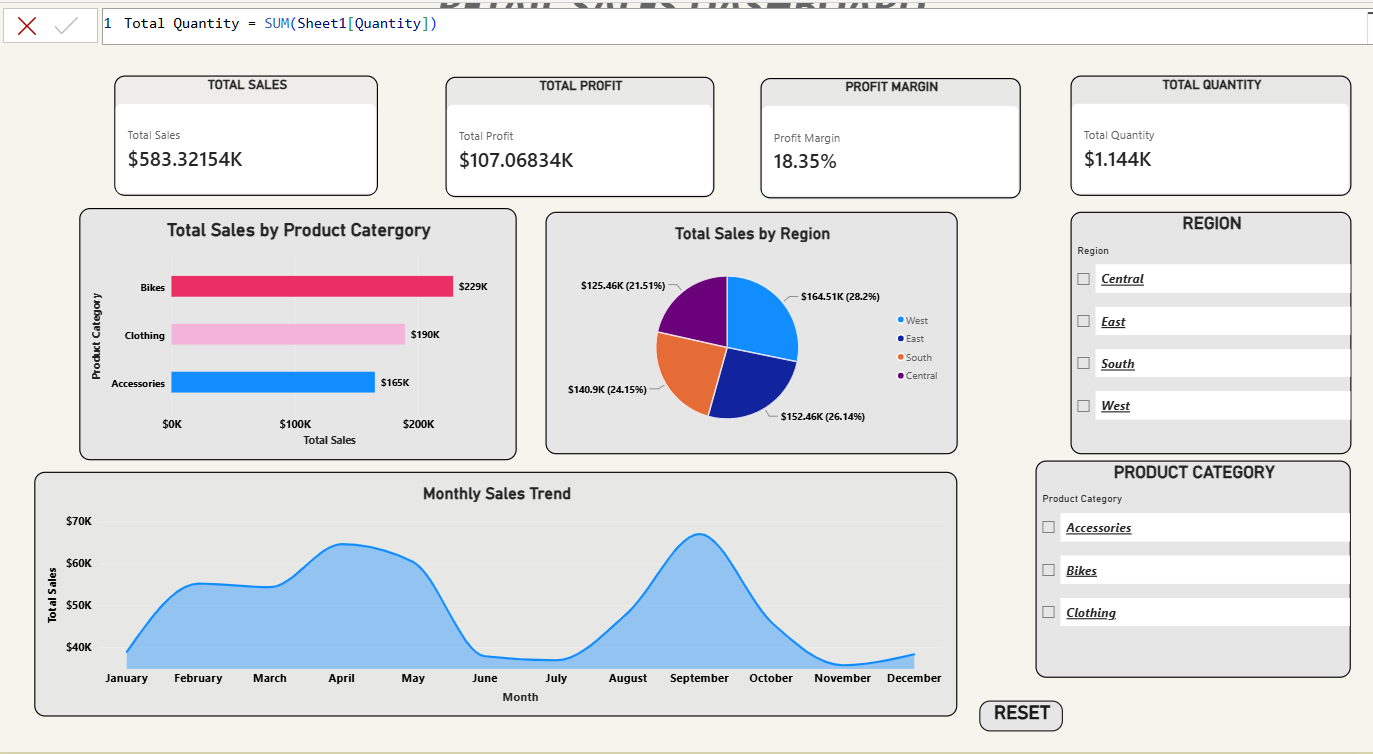

The page's visual inventory and layout, read from the dashboard file:
{"tool":"powerbi","page":{"name":"Page 1","canvas":[1920,1080],"ordinal":0},"visuals":[{"type":"textbox","box":[612.2,0,727.3,87.2],"z":0},{"type":"cardVisual","title":"TOTAL SALES","fields":{"Data":["Sheet1.Total Sales"]},"box":[161.7,136.7,368.3,168.3],"z":1},{"type":"cardVisual","title":"TOTAL PROFIT","fields":{"Data":["Sheet1.Total Profit"]},"box":[625,138.3,375,168.3],"z":2},{"type":"cardVisual","title":"PROFIT MARGIN","fields":{"Data":["Sheet1.Profit Margin"]},"box":[1063.3,140,363.3,168.3],"z":3},{"type":"cardVisual","title":"TOTAL QUANTITY","fields":{"Data":["Sheet1.Total Quantity"]},"box":[1496.7,136.7,391.7,168.3],"z":4},{"type":"clusteredBarChart","title":"Total Sales by Product Catergory","fields":{"Category":["Sheet1.Product Category"],"Y":["Sheet1.Total Sales"]},"box":[113.3,321.7,610,351.7],"z":5},{"type":"pieChart","title":"Total Sales by Region","fields":{"Category":["Sheet1.Region"],"Y":["Sheet1.Total Sales"]},"box":[763.3,326.7,575,338.3],"z":6},{"type":"areaChart","title":"Monthly Sales Trend","fields":{"Category":["Sheet1.Order Date.Variation.Date Hierarchy.Month"],"Y":["Sheet1.Total Sales"]},"box":[50,688.3,1288.3,341.7],"z":7},{"type":"slicer","title":"PRODUCT CATEGORY","fields":{"Values":["Sheet1.Product Category"]},"box":[1448.3,673.3,440,303.3],"z":9},{"type":"actionButton","title":"RESET","box":[1368.3,1008.3,116.7,43.3],"z":10},{"type":"slicer","title":"REGION","fields":{"Values":["Sheet1.Region"]},"box":[1497,327,392,338],"z":11}]}

Visuals, with their boxes in screenshot pixels (x1, y1, x2, y2):
textbox: [434, 0, 953, 41]
"TOTAL SALES" cardVisual: [112, 76, 375, 196]
"TOTAL PROFIT" cardVisual: [443, 77, 711, 198]
"PROFIT MARGIN" cardVisual: [756, 79, 1015, 199]
"TOTAL QUANTITY" cardVisual: [1065, 76, 1345, 196]
"Total Sales by Product Catergory" clusteredBarChart: [77, 208, 513, 459]
"Total Sales by Region" pieChart: [542, 212, 952, 453]
"Monthly Sales Trend" areaChart: [32, 470, 952, 714]
"PRODUCT CATEGORY" slicer: [1031, 459, 1345, 676]
"RESET" actionButton: [974, 699, 1057, 730]
"REGION" slicer: [1066, 212, 1346, 453]
